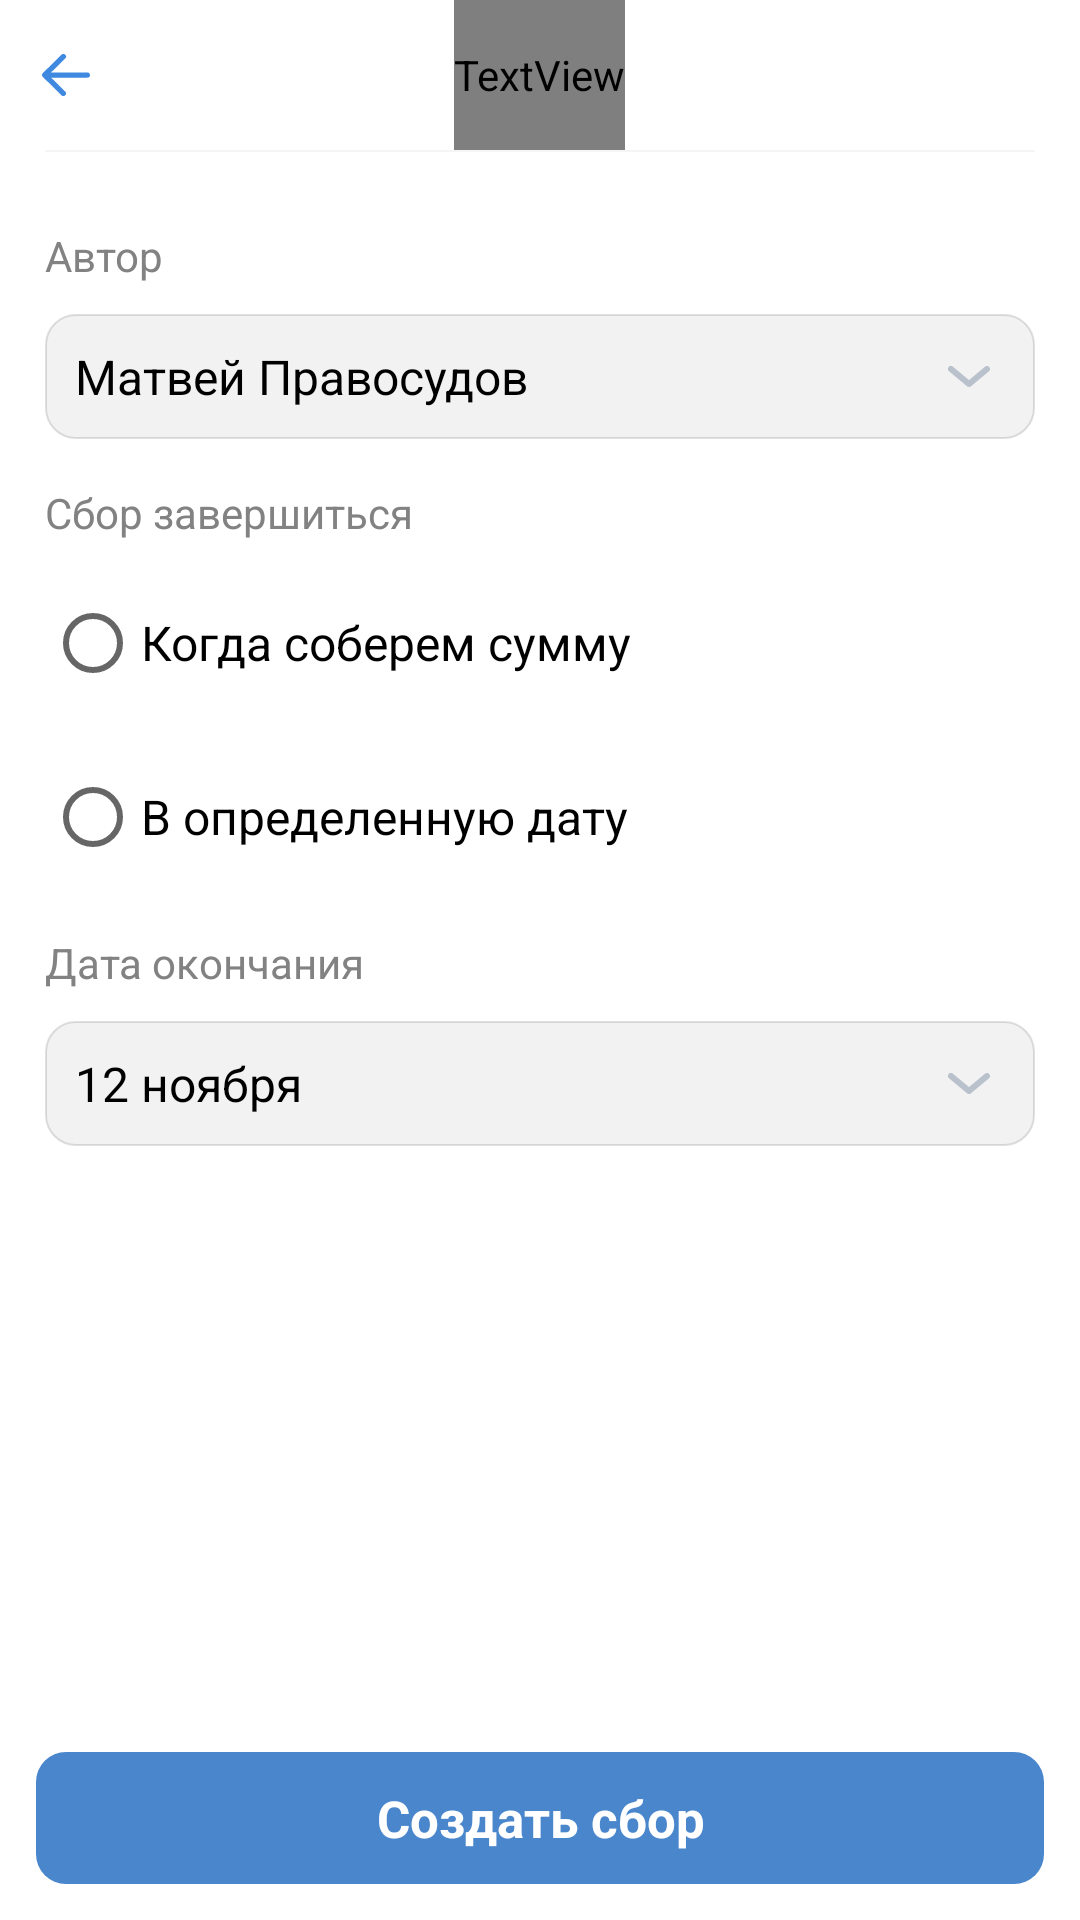

Icon click points for this 1080px×1920px phone screenshot, format (x,y):
arrow bottom: (969,376), (969,1083)
back: (66,75)
